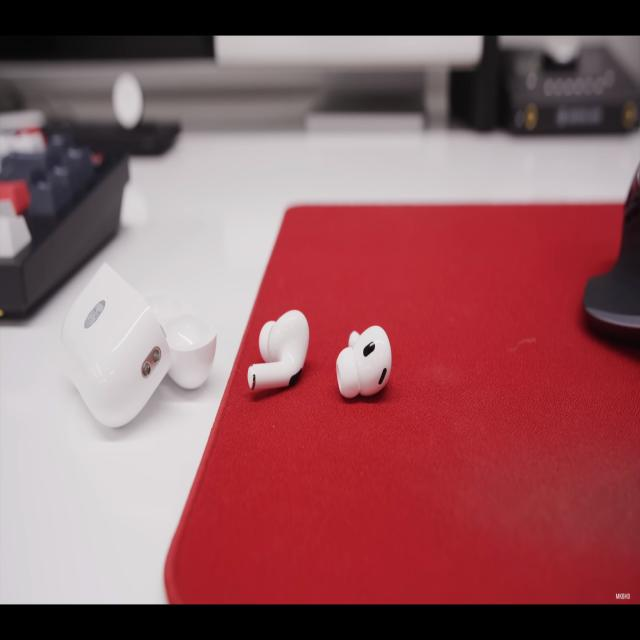airpods: (59, 257, 218, 432), (247, 308, 310, 394), (335, 324, 394, 400)
